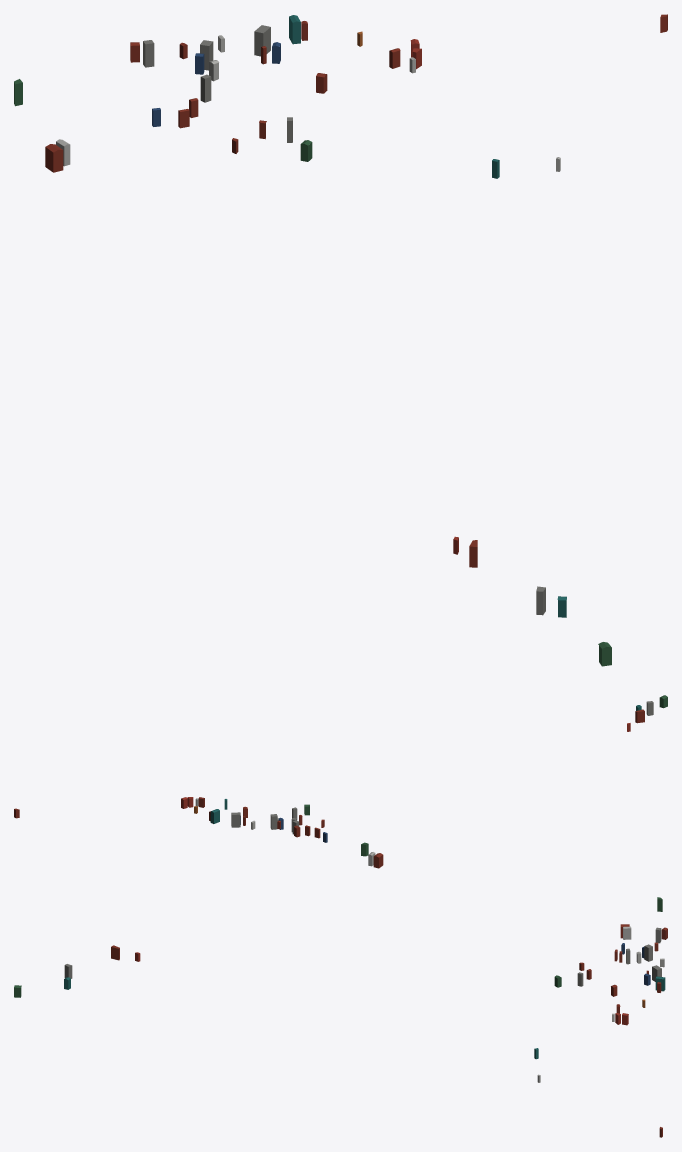
Rendered from near-15-27369-14862.14d9ef01.glb.
The picture shows the model from 3 angles, top to bottom: view 1: azimuth 30°, elevation 25°; view 2: azimuth 150°, elevation 25°; view 3: azimuth 270°, elevation 25°; orthographic projection. The views are drawn at different scales.
Size of the model in its own units: 722 by 177 by 1060.
